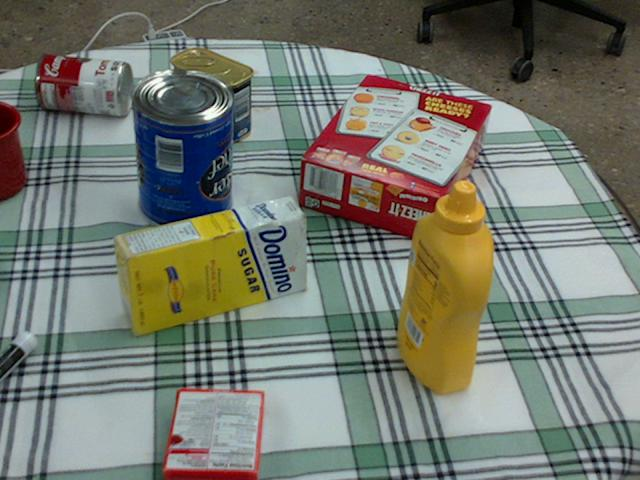cracker_box: (299, 74, 491, 243)
gelatin_box: (161, 389, 262, 479)
large_marker: (0, 331, 36, 380)
master_chef_can: (128, 69, 231, 233)
mug: (0, 99, 26, 198)
mustard_bottle: (397, 179, 493, 391)
potted_meat_can: (170, 48, 252, 142)
sugar_box: (112, 196, 306, 335)
tomato_soup_can: (35, 54, 132, 114)
